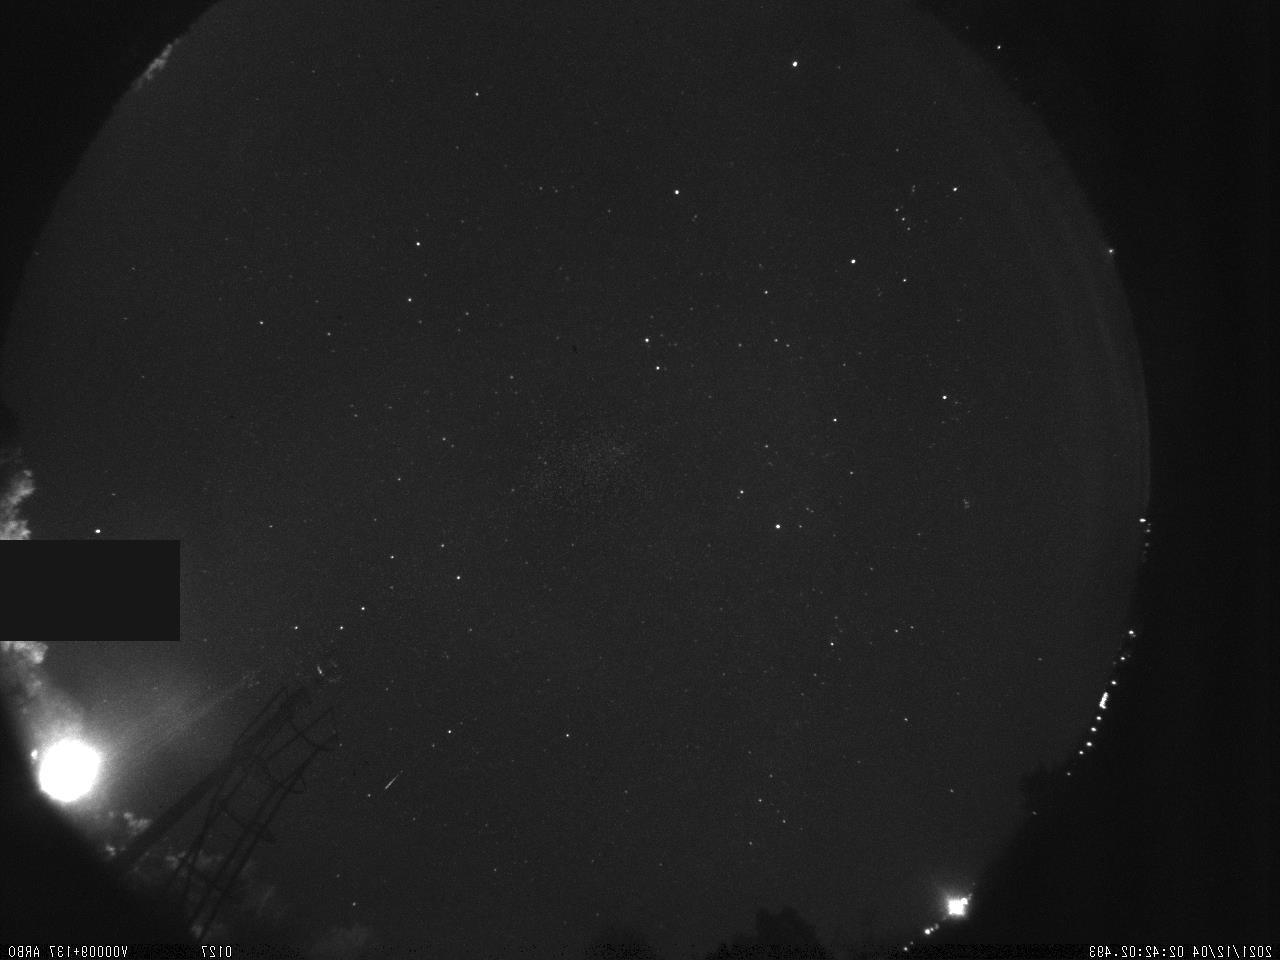meteor: (380, 751, 420, 797)
